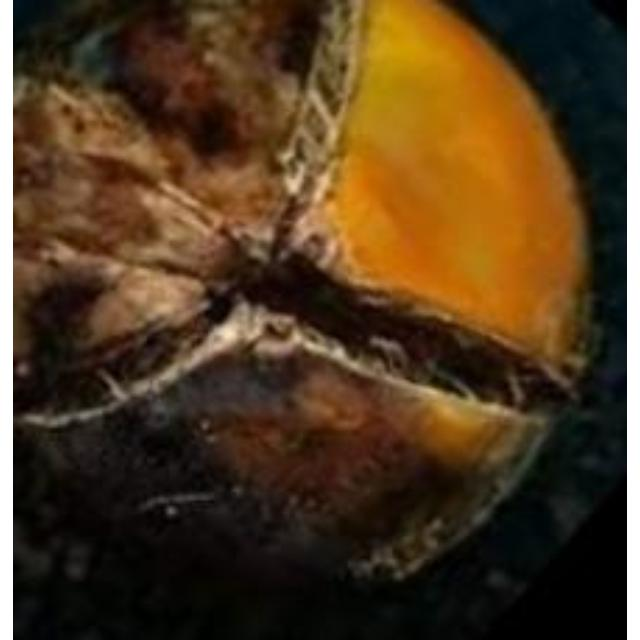damaged: (13, 0, 593, 630)
